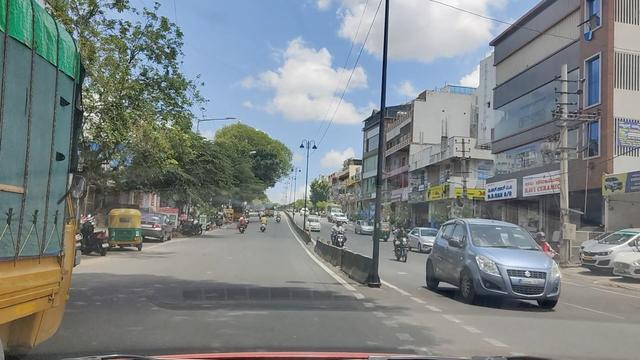LMV: (432, 216, 549, 303), (230, 203, 258, 240), (113, 210, 144, 241)
